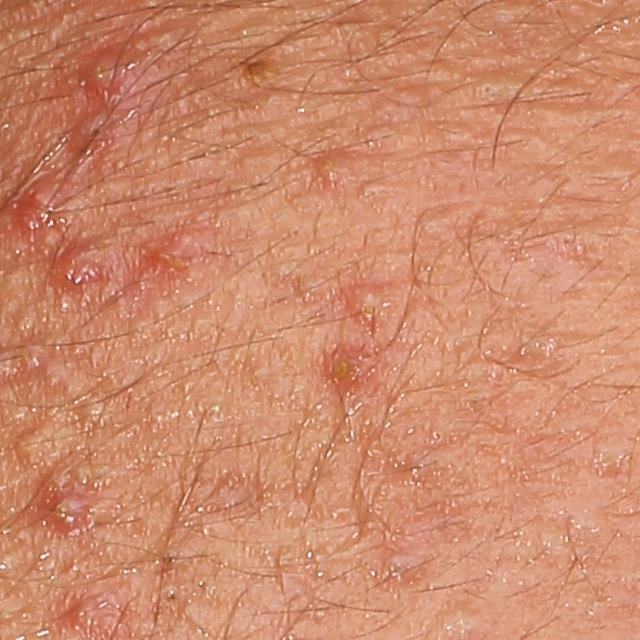comedo: (55, 358, 111, 420), (270, 472, 318, 520), (18, 423, 69, 468), (207, 472, 255, 517), (383, 552, 425, 588), (416, 206, 466, 236), (315, 158, 354, 191), (361, 181, 400, 205), (158, 584, 187, 608), (246, 361, 267, 380), (481, 78, 498, 99)
papule: (58, 241, 109, 291), (327, 341, 374, 391), (63, 592, 116, 634), (80, 50, 128, 94), (153, 235, 203, 274)
